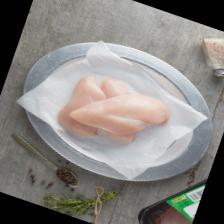chicken: (66, 73, 174, 150), (52, 68, 114, 140)
